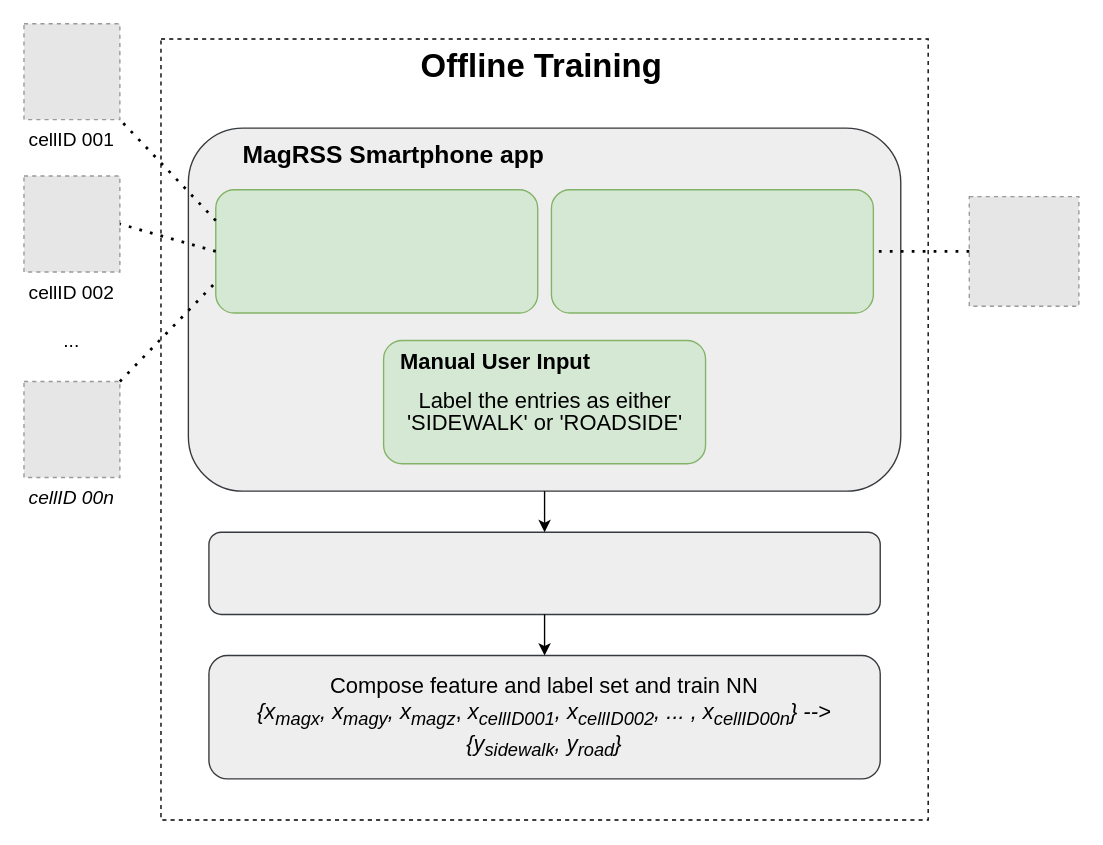
Image size: 1103x845. Some labels were removed from this diagram. Grey dashed boxes stand in for pictures. The centre of each missing label's shape, as x and y in pixels:
Collect Earth's geomagnetic field intensity in μT: the point at 711,250
Collect network access point cellID Received Signal Strength (RSS) in dBm: the point at 376,250
Data pre-processing and cleanup, Pandas (python) Dataframes creation: the point at 544,572
